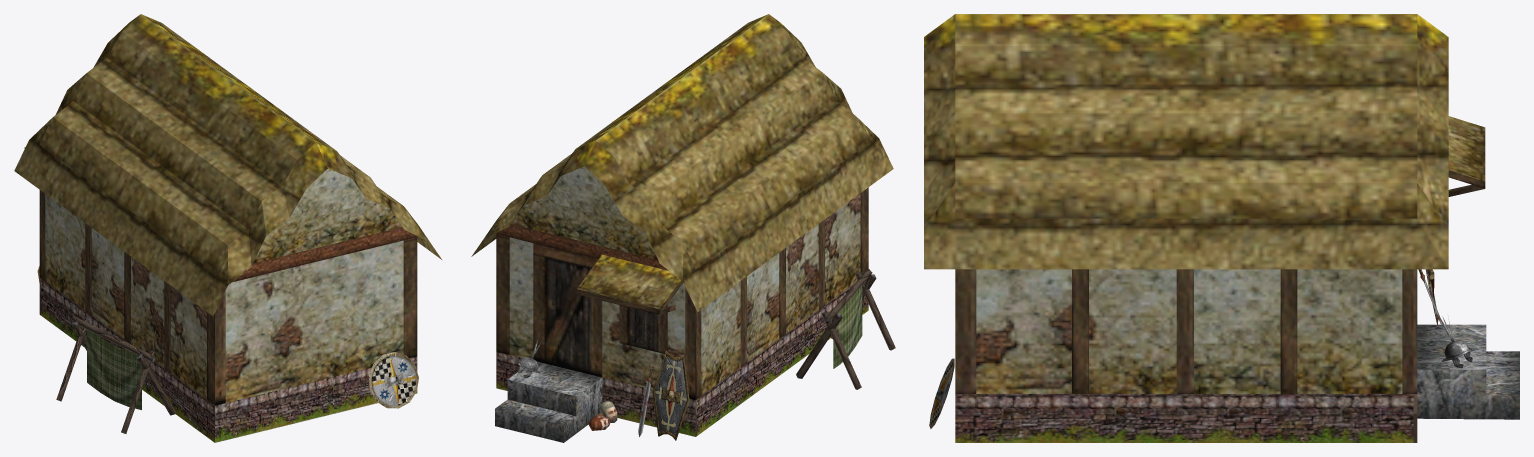
File: s_celts_longhouse.glb
3 views of the same model, side by side, from view 1: azimuth 30°, elevation 25°; view 2: azimuth 150°, elevation 25°; view 3: azimuth 270°, elevation 25° (orthographic). The views are drawn at different scales.
Visible parts, largest first — view 1: s_celts_longhouse_part0, s_celts_longhouse_part2; view 2: s_celts_longhouse_part0, s_celts_longhouse_part2; view 3: s_celts_longhouse_part0, s_celts_longhouse_part2.
Boxes of the visible parts, x1,y1,x2,y2 form: s_celts_longhouse_part0: (14,14,441,442); s_celts_longhouse_part2: (37,266,418,433); s_celts_longhouse_part0: (471,14,893,442); s_celts_longhouse_part2: (517,269,895,440); s_celts_longhouse_part0: (924,14,1519,442); s_celts_longhouse_part2: (929,269,1472,428).
Size of the model in its own units: 2.51 by 2.31 by 3.37.
3 materials, 3 textured.
